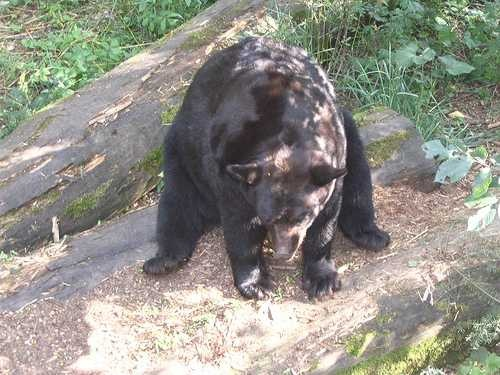bear: (225, 141, 353, 269)
